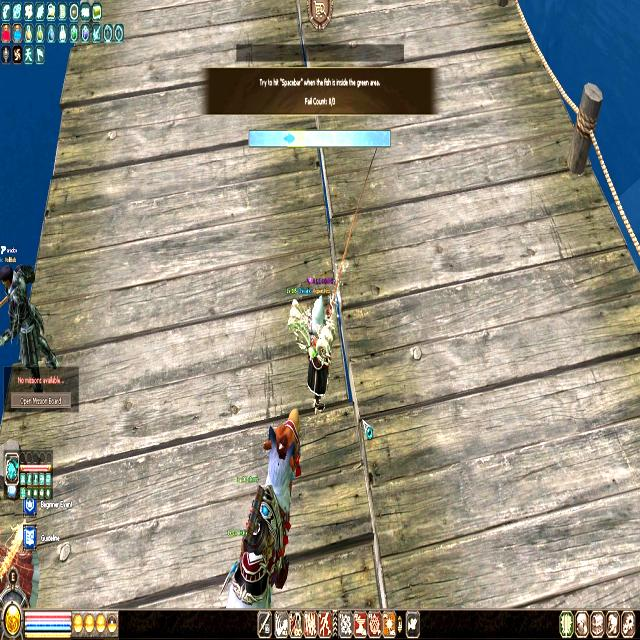fishes: (283, 131, 295, 146)
